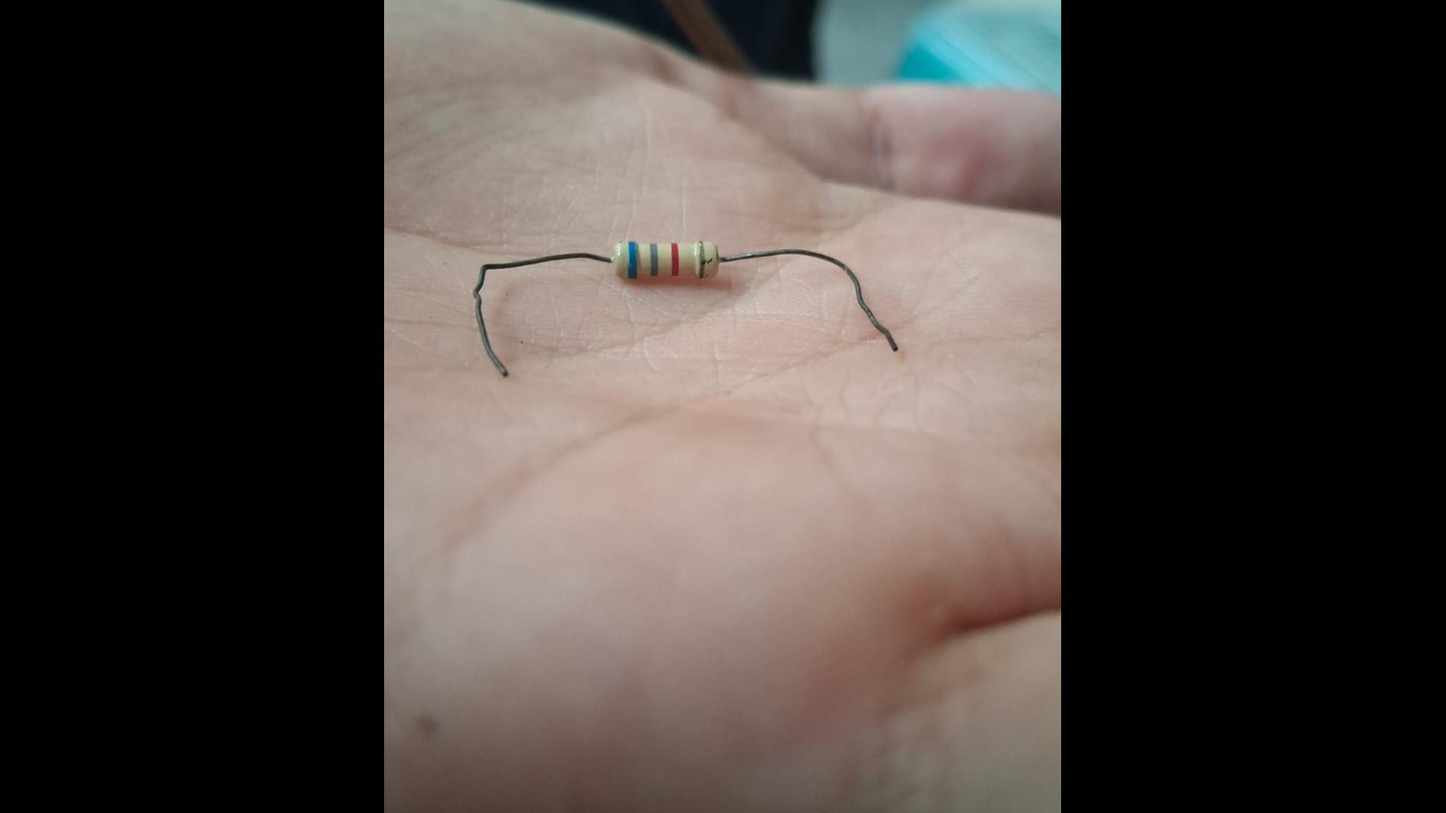Resistencia: (473, 241, 898, 376)
